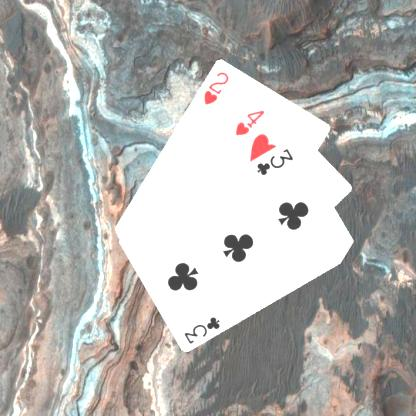2H: (201, 69, 230, 106)
3C: (181, 313, 221, 346), (254, 145, 295, 177)
4H: (233, 106, 266, 137)
